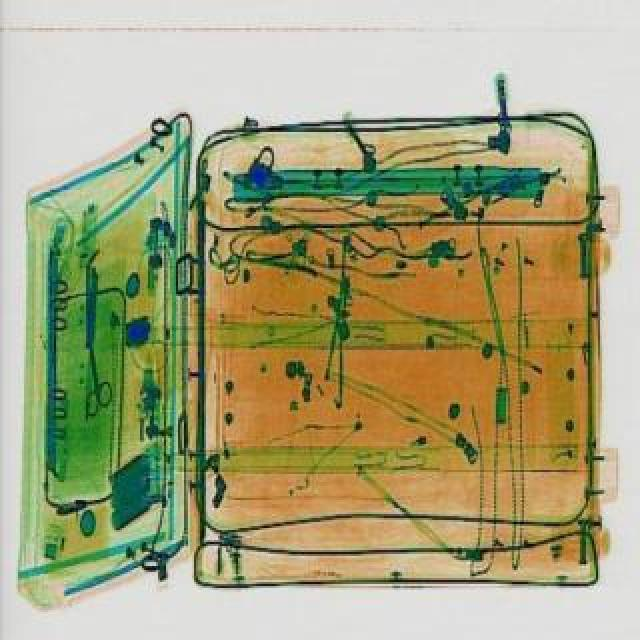pliers: (74, 342, 114, 416)
